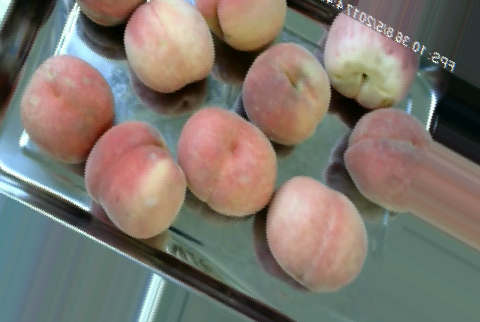Peach: (80, 120, 187, 240), (266, 174, 368, 293), (175, 107, 279, 220), (17, 55, 114, 168), (343, 106, 432, 215), (321, 9, 416, 109), (242, 41, 329, 142), (124, 0, 215, 92), (197, 0, 288, 51)
